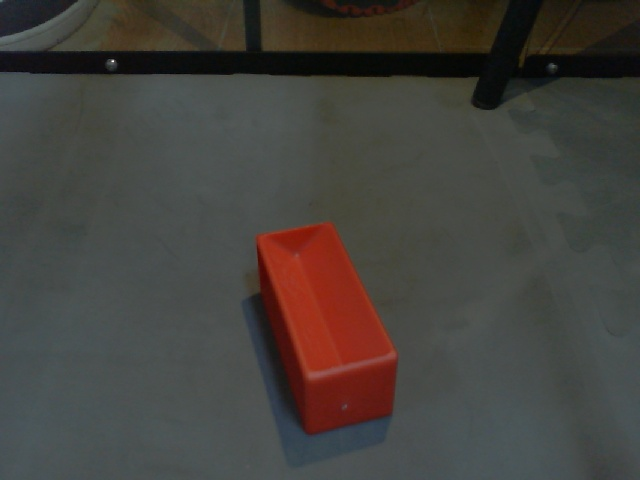RedSample: (252, 219, 399, 434)
